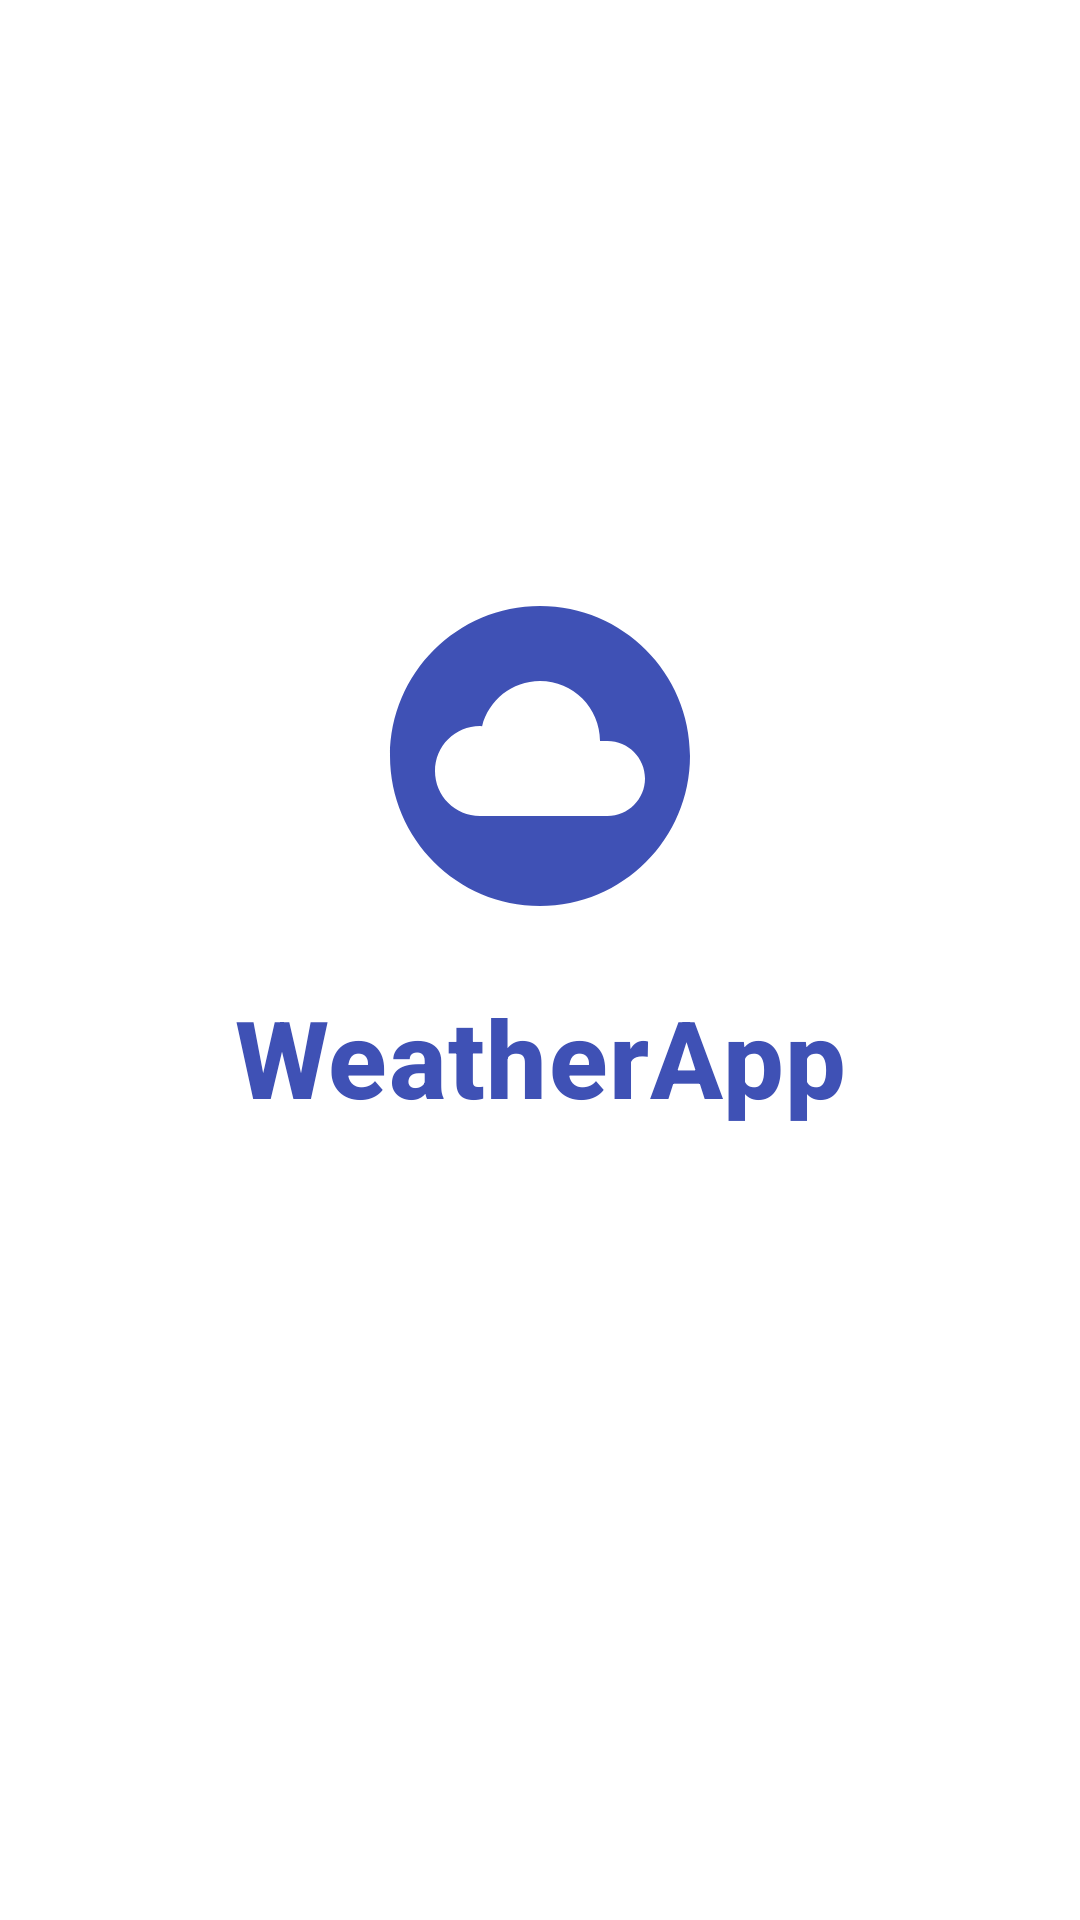

Point at icon controls on the screen. Image size 1080x1920, points as [x,y].
cloud circle: [540,756]
